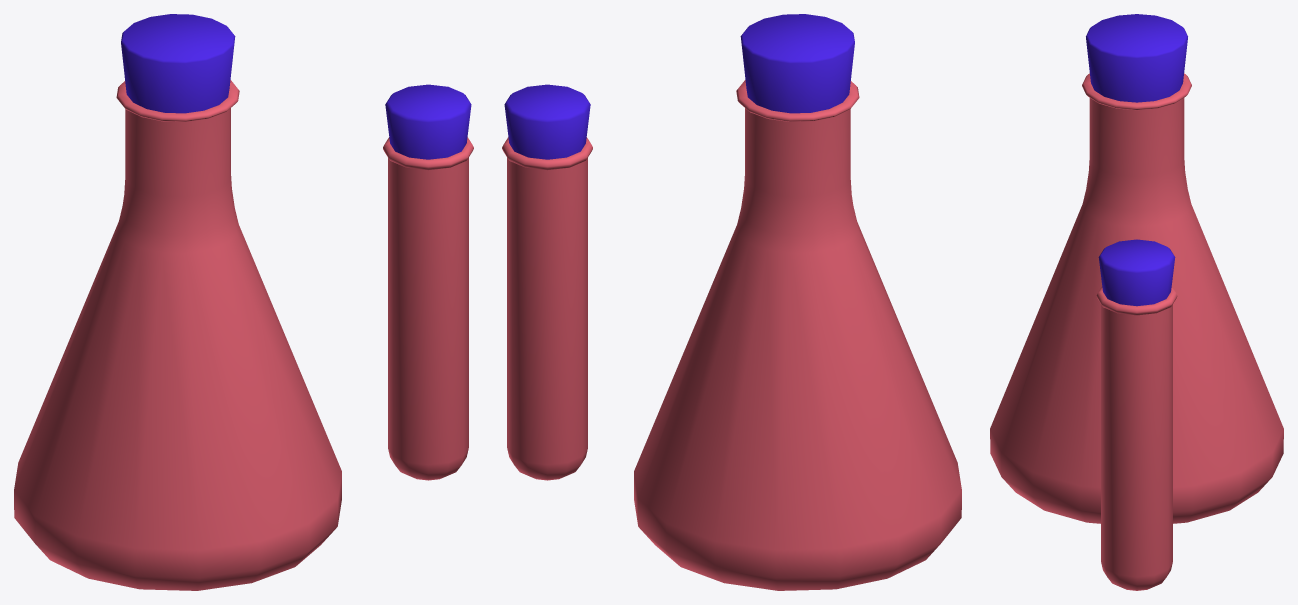
The model's file is Glasslabb.fbx.
The picture shows the model from 3 angles, left to right: view 1: azimuth 30°, elevation 25°; view 2: azimuth 150°, elevation 25°; view 3: azimuth 270°, elevation 25°; orthographic projection. The views are drawn at different scales.
Visible parts, largest first — view 1: Glassware bigoutside, Glassware smalloutside, Cylinder.005, Cylinder.011; view 2: Glassware bigoutside, Glassware smalloutside, Cylinder.005, Cylinder.011; view 3: Glassware bigoutside, Glassware smalloutside, Cylinder.005, Cylinder.011.
Part boxes in pixels (x1,y1,x2,y2): Glassware bigoutside: [14, 80, 341, 590]; Glassware smalloutside: [383, 137, 473, 480]; Cylinder.005: [121, 14, 235, 113]; Cylinder.011: [385, 84, 471, 159]; Glassware bigoutside: [634, 80, 961, 590]; Glassware smalloutside: [502, 137, 592, 480]; Cylinder.005: [740, 14, 854, 113]; Cylinder.011: [504, 84, 590, 159]; Glassware bigoutside: [990, 73, 1283, 523]; Glassware smalloutside: [1096, 286, 1177, 590]; Cylinder.005: [1086, 14, 1187, 102]; Cylinder.011: [1098, 239, 1175, 306].
Size of the model in its own units: 1.21 by 1.33 by 0.7982.
